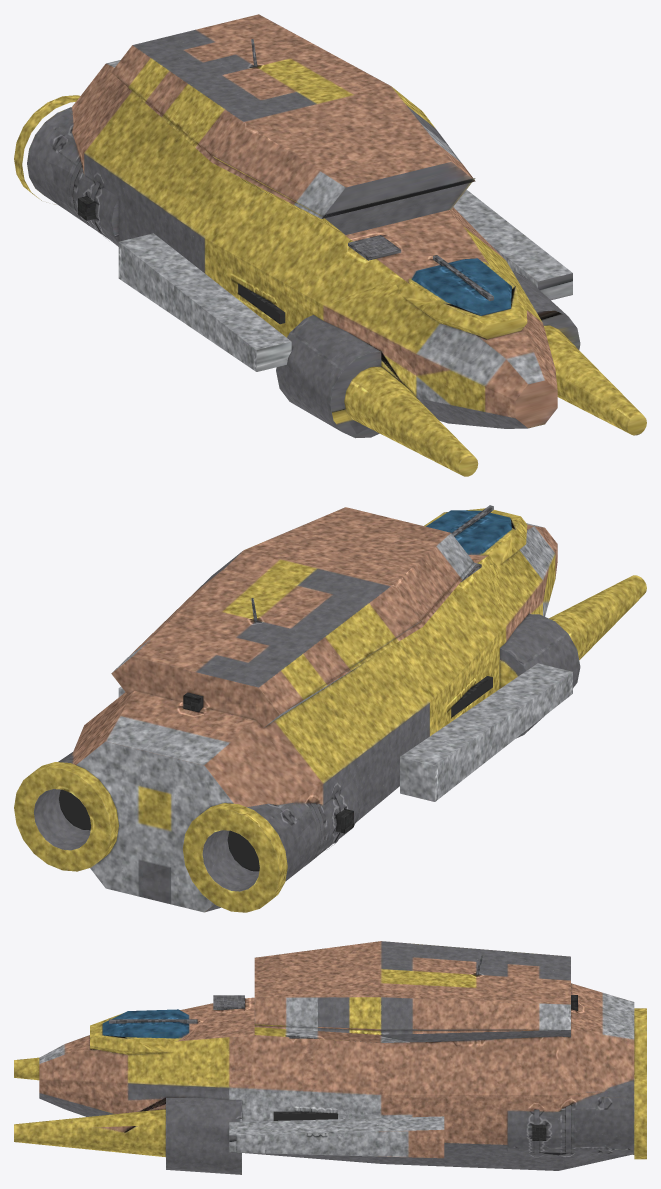
Rendered from sd_npc_mining.glb.
3 renders of one model, top to bottom at view 1: azimuth 30°, elevation 25°; view 2: azimuth 150°, elevation 25°; view 3: azimuth 270°, elevation 25°, orthographic. The views are drawn at different scales.
Visible parts, largest first — view 1: LOD0_body, LOD1_body; view 2: LOD0_body, LOD1_body; view 3: LOD0_body, LOD1_body.
Part boxes in pixels (<box>): LOD0_body: <box>14,14,646,476</box>; LOD1_body: <box>27,14,641,467</box>; LOD0_body: <box>14,505,646,912</box>; LOD1_body: <box>33,506,645,900</box>; LOD0_body: <box>14,941,646,1174</box>; LOD1_body: <box>14,941,641,1174</box>.
Size of the model in its own units: 0.45 by 0.3339 by 1.
1 material, 1 textured.
